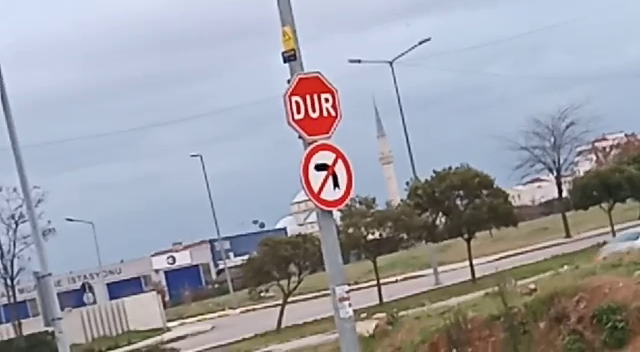no_left: (296, 140, 358, 214)
stop: (280, 67, 347, 144)
